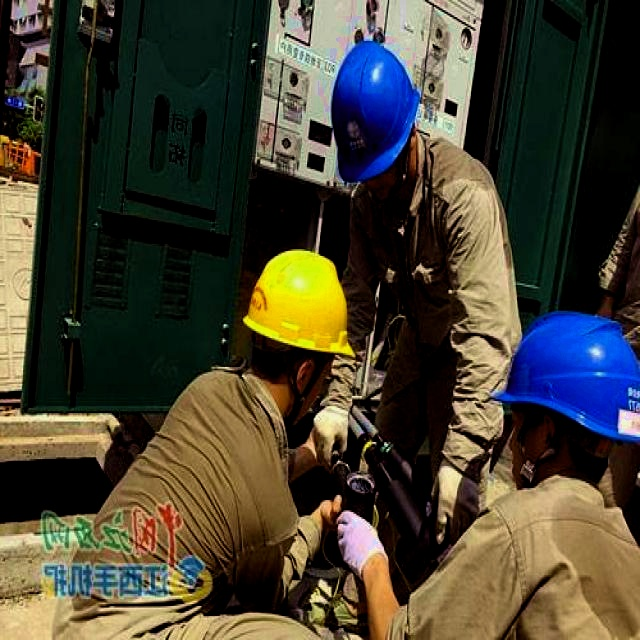Con_Casco: (244, 252, 353, 400), (328, 39, 420, 189)
